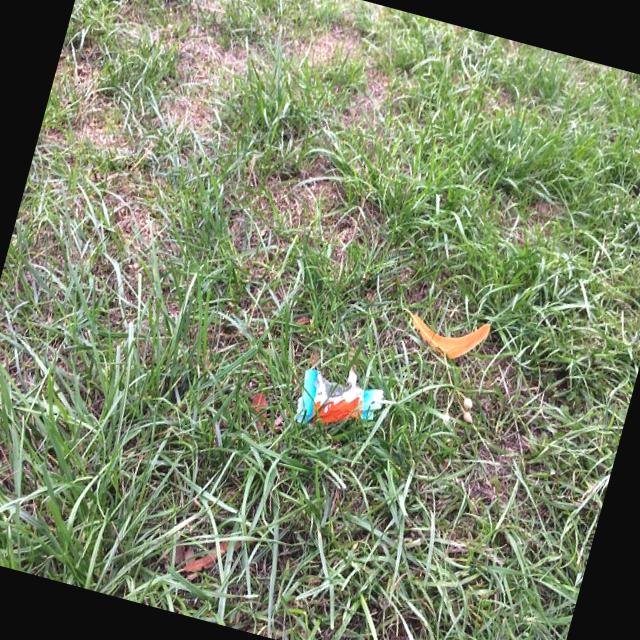Trash: (294, 362, 388, 442), (404, 296, 494, 369)
